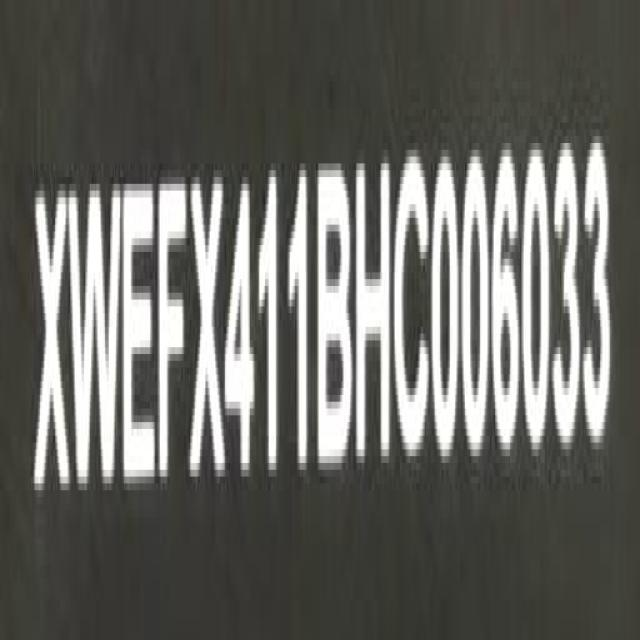0: (432, 149, 462, 467), (460, 144, 489, 462), (523, 142, 551, 456)
1: (288, 164, 314, 486), (258, 163, 282, 488)
3: (582, 140, 614, 457), (551, 139, 580, 459)
4: (224, 170, 256, 492)
6: (492, 140, 524, 459)
B: (316, 158, 355, 480)
C: (396, 152, 434, 469)
E: (123, 172, 159, 497)
F: (157, 172, 190, 496)
H: (354, 153, 394, 476)
W: (71, 176, 124, 504)
X: (190, 163, 228, 492), (34, 182, 72, 508)
